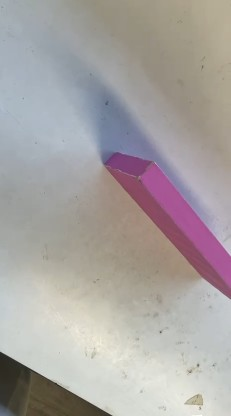pink: (99, 152, 227, 325)
